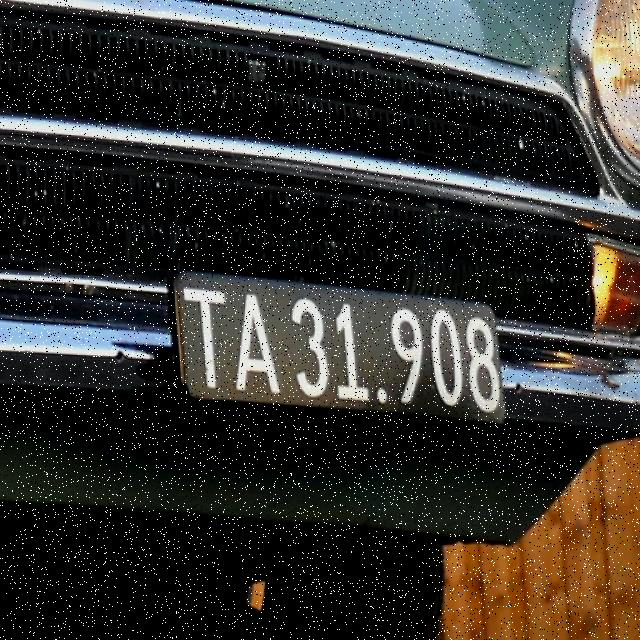licenseplate: (166, 264, 516, 440)
